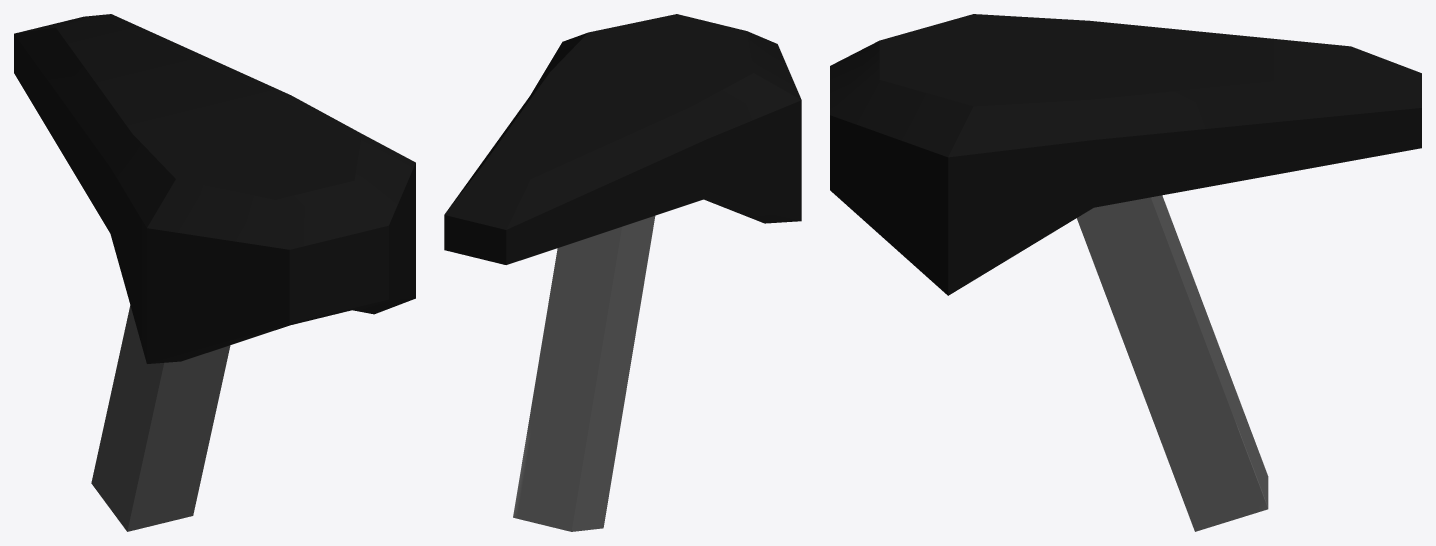
Rendered from Bike Saddle.fbx.
The picture shows the model from 3 angles, left to right: view 1: azimuth 30°, elevation 25°; view 2: azimuth 150°, elevation 25°; view 3: azimuth 270°, elevation 25°; orthographic projection. The views are drawn at different scales.
Parts seen in each view (by area): view 1: Mountain Bike Saddle; view 2: Mountain Bike Saddle; view 3: Mountain Bike Saddle.
Boxes of the visible parts, box(x1,y1,x2,y2) form: Mountain Bike Saddle: box(14, 14, 415, 531); Mountain Bike Saddle: box(444, 14, 801, 531); Mountain Bike Saddle: box(830, 14, 1421, 531).
Bounding box in the file's own units: 28.93 × 45.96 × 54.12.
